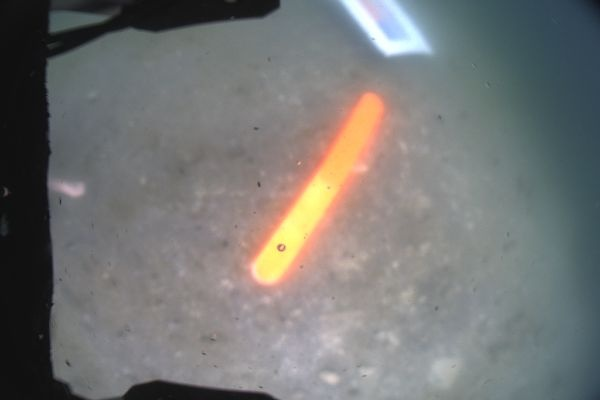bin: (341, 0, 430, 55)
bin_bleue: (376, 19, 398, 38)
bin_rouge: (360, 0, 384, 18)
path: (251, 89, 385, 288)
